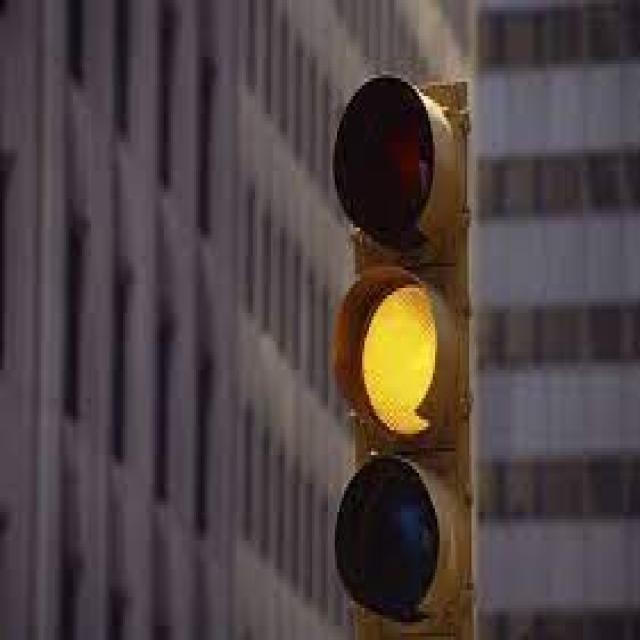yellow_light: (335, 76, 472, 639)
